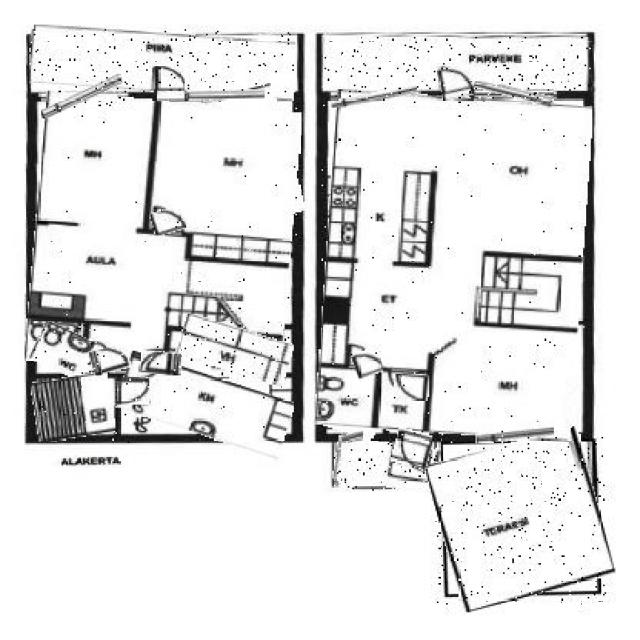door: (392, 429, 431, 468), (438, 66, 474, 100), (92, 346, 130, 374), (140, 351, 182, 375), (153, 68, 184, 99), (116, 377, 150, 405), (151, 208, 186, 234), (396, 375, 430, 400), (352, 349, 382, 377)
window: (40, 83, 126, 111), (474, 86, 554, 105), (331, 89, 418, 103), (475, 429, 554, 442), (186, 91, 265, 100), (340, 432, 363, 443)
zone: (322, 95, 586, 437), (31, 97, 295, 375), (434, 433, 606, 604), (143, 91, 297, 237), (31, 29, 295, 97), (115, 363, 292, 446), (322, 37, 592, 91), (177, 322, 292, 380), (334, 438, 440, 491), (34, 374, 114, 440), (323, 376, 385, 436), (32, 324, 94, 376), (388, 374, 434, 434)
